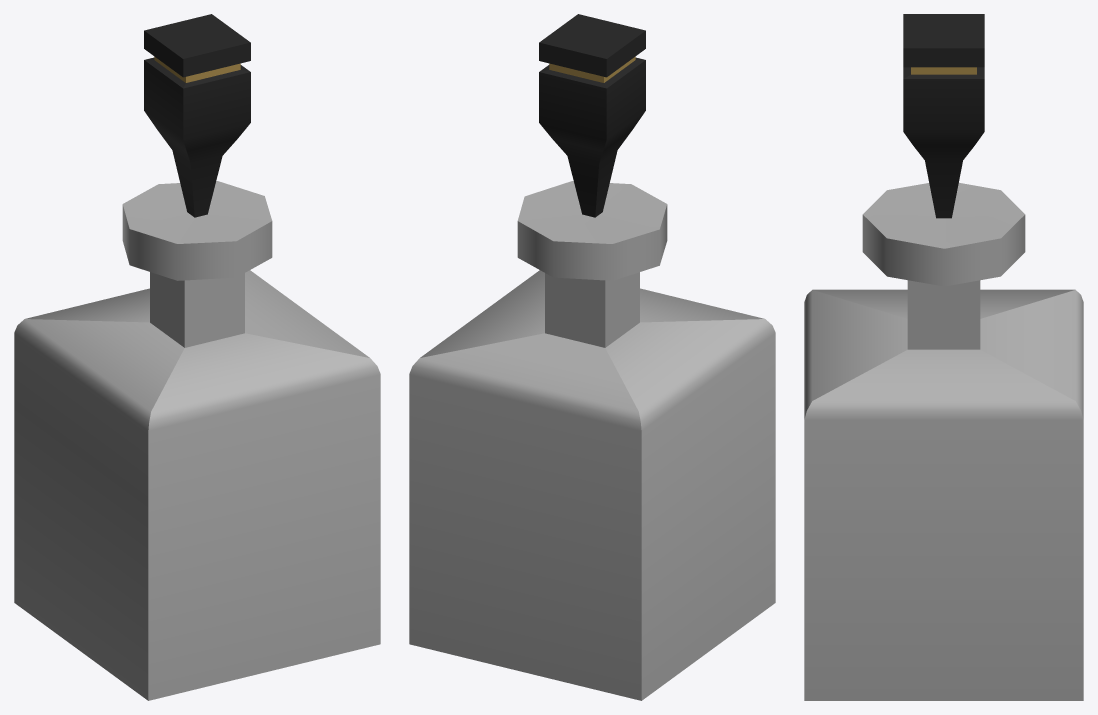
File: LoungeBottle1UV.fbx
The picture shows the model from 3 angles, left to right: view 1: azimuth 30°, elevation 25°; view 2: azimuth 150°, elevation 25°; view 3: azimuth 270°, elevation 25°; orthographic projection. The views are drawn at different scales.
Parts seen in each view (by area): view 1: pCube1; view 2: pCube1; view 3: pCube1.
Boxes of the visible parts, left/top/right/bottom form: pCube1: left=14, top=14, right=380, bottom=700; pCube1: left=409, top=14, right=775, bottom=700; pCube1: left=804, top=14, right=1083, bottom=700.
Size of the model in its own units: 32.02 by 77.27 by 32.02.
